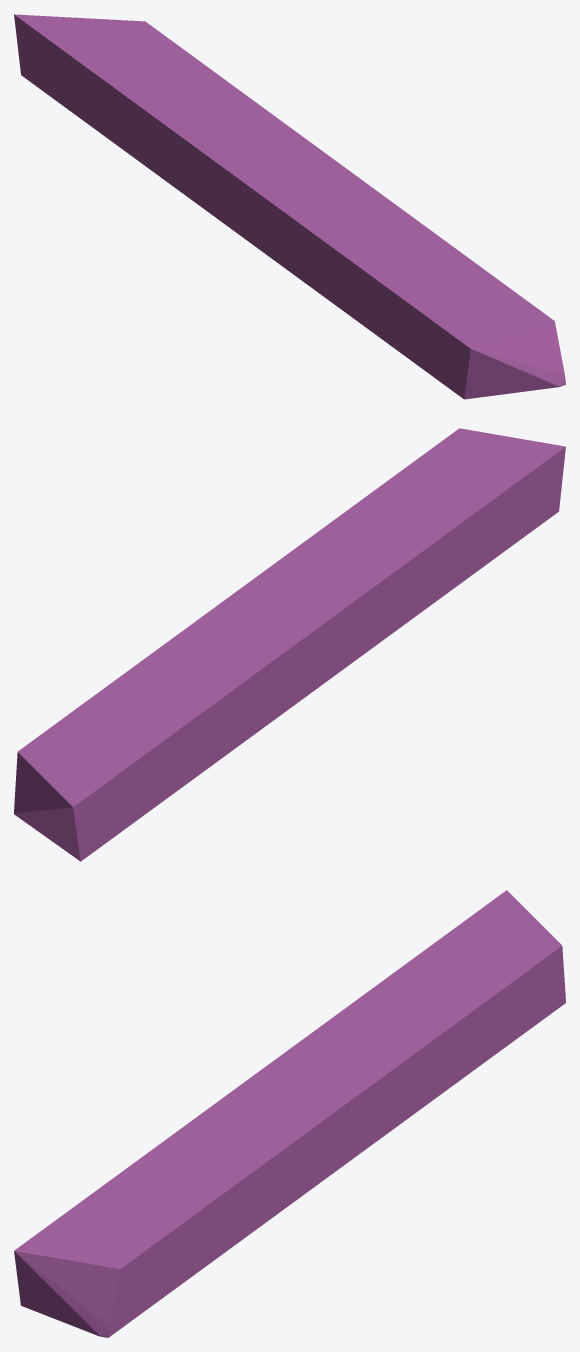
The model's file is convex_piece_7.obj.
3 renders of one model, top to bottom at view 1: azimuth 30°, elevation 25°; view 2: azimuth 150°, elevation 25°; view 3: azimuth 330°, elevation 25°, orthographic. The views are drawn at different scales.
Size of the model in its own units: 0.00737 by 0.00428 by 0.0644.
